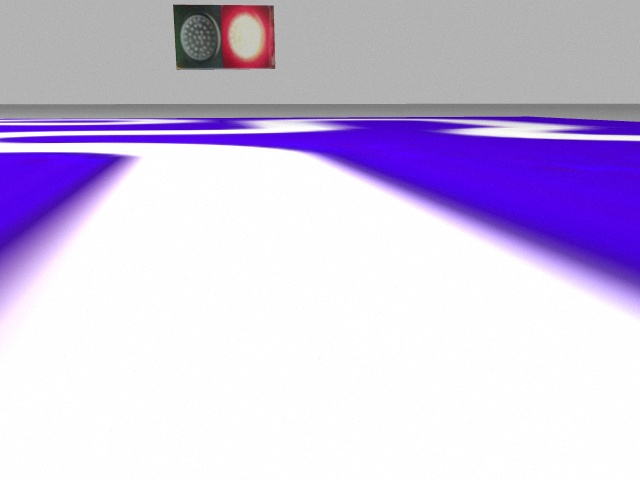red: (222, 5, 276, 69)
